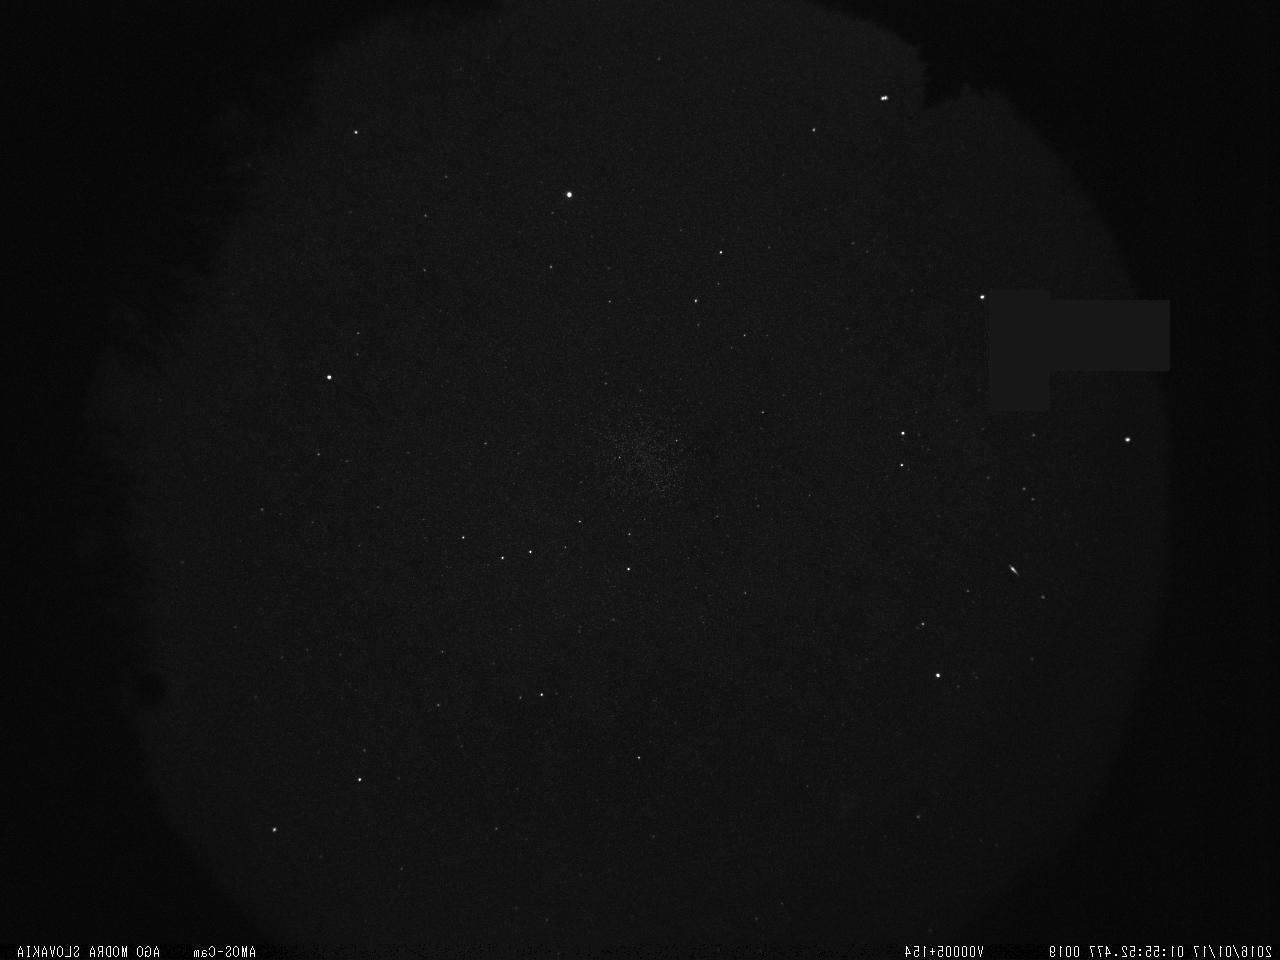meteor: (1004, 562, 1025, 579)
